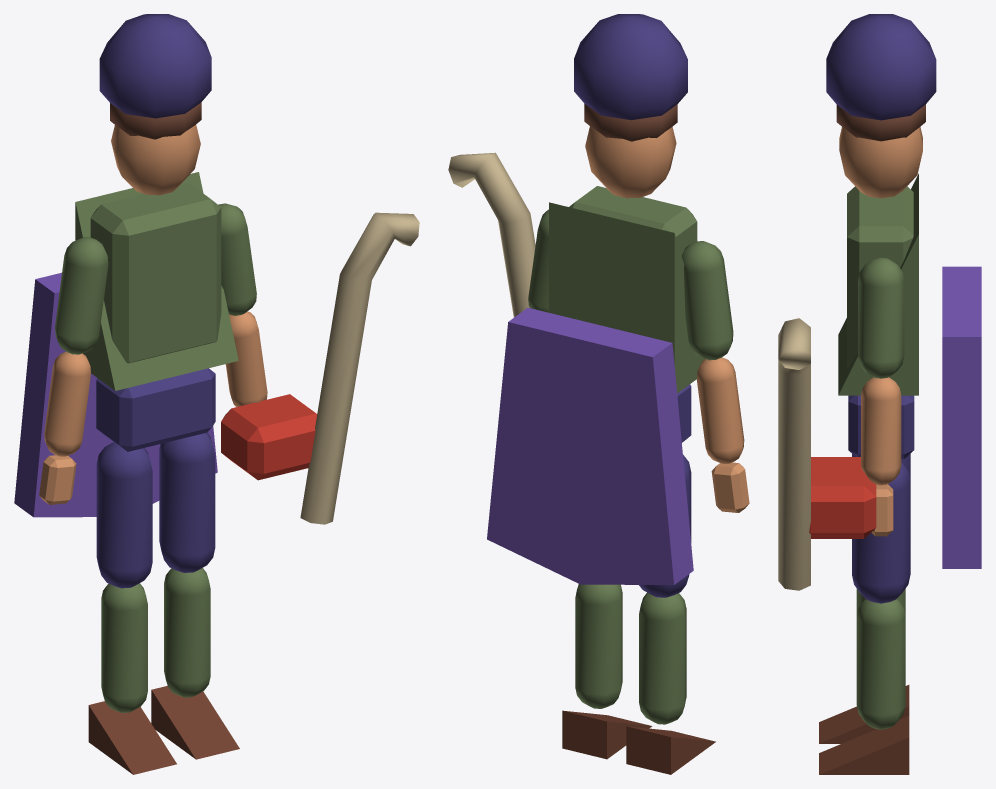
Rendered from adventurer.rustic.glb.
The picture shows the model from 3 angles, left to right: view 1: azimuth 30°, elevation 25°; view 2: azimuth 150°, elevation 25°; view 3: azimuth 270°, elevation 25°; orthographic projection.
Parts seen in each view (by area): view 1: torso, accessory.main-hand, accessory.back, accessory.head, thigh.left, pelvis, thigh.right, accessory.waist, tunic, shin.right, shin.left, upper-arm.left (+8 smaller); view 2: accessory.back, tunic, accessory.head, shin.left, shin.right, accessory.main-hand, upper-arm.left, head, forearm.left, torso, foot.left, foot.right (+5 smaller); view 3: accessory.back, accessory.head, accessory.main-hand, shin.right, torso, upper-arm.right, accessory.waist, thigh.right, head, tunic, forearm.right, foot.right (+4 smaller).
Part boxes in pixels (x1=…): torso: x1=90, y1=183, x2=221, y2=363; accessory.main-hand: x1=300, y1=212, x2=419, y2=524; accessory.back: x1=14, y1=272, x2=217, y2=517; accessory.head: x1=99, y1=14, x2=211, y2=118; thigh.left: x1=96, y1=442, x2=152, y2=588; pelvis: x1=96, y1=368, x2=215, y2=451; thigh.right: x1=159, y1=432, x2=215, y2=572; accessory.waist: x1=221, y1=394, x2=317, y2=480; tunic: x1=75, y1=172, x2=238, y2=390; shin.right: x1=164, y1=568, x2=210, y2=697; shin.left: x1=101, y1=583, x2=147, y2=712; upper-arm.left: x1=55, y1=237, x2=108, y2=354; accessory.back: x1=487, y1=307, x2=693, y2=584; tunic: x1=549, y1=202, x2=704, y2=392; accessory.head: x1=574, y1=14, x2=687, y2=120; shin.left: x1=639, y1=592, x2=686, y2=724; shin.right: x1=575, y1=584, x2=622, y2=708; accessory.main-hand: x1=448, y1=152, x2=535, y2=317; upper-arm.left: x1=681, y1=241, x2=733, y2=360; head: x1=585, y1=126, x2=676, y2=198; forearm.left: x1=696, y1=357, x2=744, y2=463; torso: x1=569, y1=186, x2=697, y2=255; foot.left: x1=626, y1=726, x2=715, y2=774; foot.right: x1=562, y1=710, x2=652, y2=759; accessory.back: x1=942, y1=266, x2=981, y2=568; accessory.head: x1=826, y1=14, x2=936, y2=120; accessory.main-hand: x1=778, y1=318, x2=810, y2=590; shin.right: x1=856, y1=599, x2=905, y2=729; torso: x1=847, y1=186, x2=913, y2=366; upper-arm.right: x1=858, y1=257, x2=904, y2=378; accessory.waist: x1=809, y1=457, x2=876, y2=538; thigh.right: x1=852, y1=462, x2=910, y2=603; head: x1=839, y1=127, x2=922, y2=198; tunic: x1=838, y1=173, x2=918, y2=395; forearm.right: x1=861, y1=377, x2=901, y2=485; foot.right: x1=819, y1=716, x2=909, y2=774.
Size of the model in its own units: 1.58 by 3.29 by 0.83.
